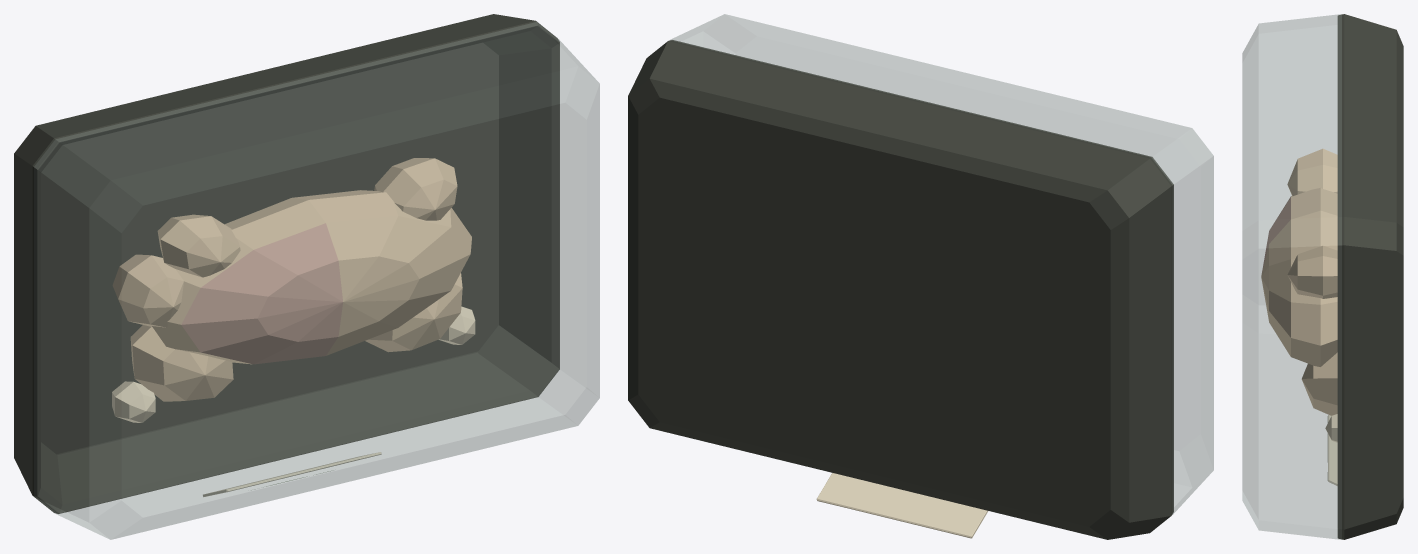
File: duck.glb
The picture shows the model from 3 angles, left to right: view 1: azimuth 30°, elevation 25°; view 2: azimuth 150°, elevation 25°; view 3: azimuth 270°, elevation 25°; orthographic projection. The views are drawn at different scales.
Visible parts, largest first — view 1: duck; view 2: duck; view 3: duck.
Boxes of the visible parts, left/top/right/bottom form: duck: left=14, top=14, right=599, bottom=539; duck: left=628, top=14, right=1213, bottom=539; duck: left=1242, top=14, right=1403, bottom=539.
Size of the model in its own units: 0.22 by 0.1639 by 0.068.
